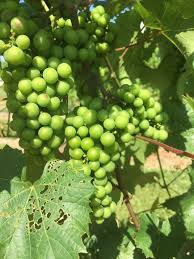grapes: (10, 19, 92, 164), (95, 92, 127, 219), (126, 86, 163, 143)
